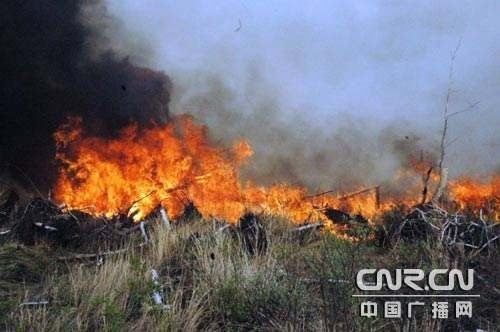fire: (50, 113, 327, 216), (335, 158, 500, 210)
